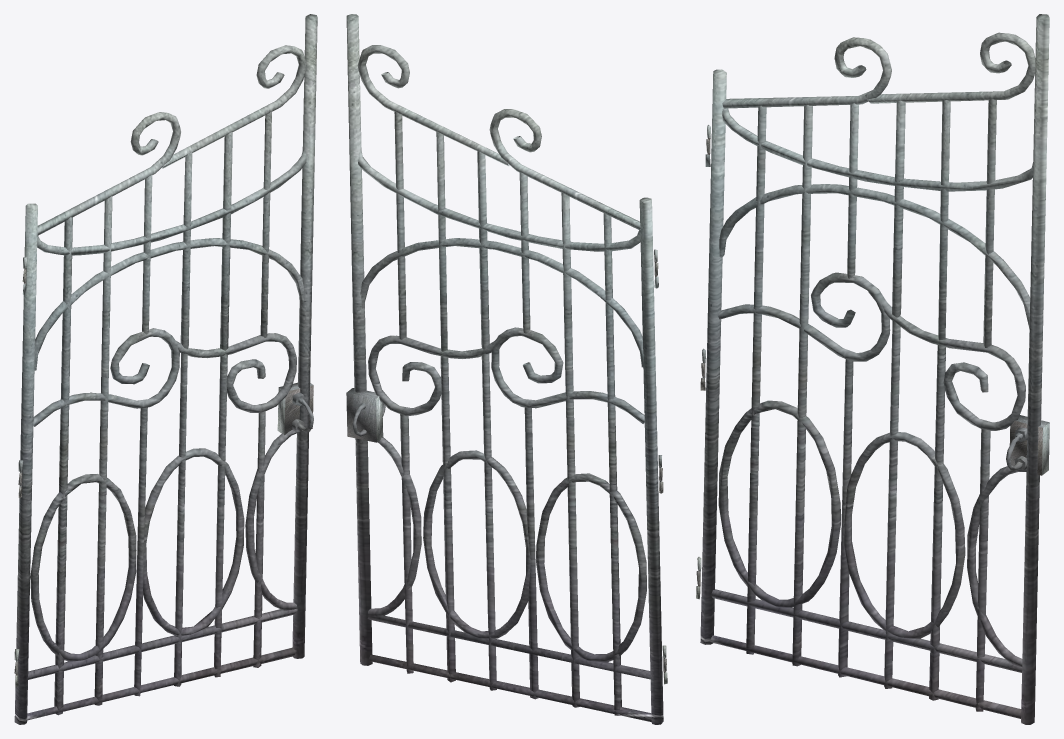
Rendered from porta1.fbx.
The picture shows the model from 3 angles, left to right: view 1: azimuth 30°, elevation 25°; view 2: azimuth 150°, elevation 25°; view 3: azimuth 330°, elevation 25°; orthographic projection. The views are drawn at different scales.
Parts seen in each view (by area): view 1: porta portao 1; view 2: porta portao 1; view 3: porta portao 1.
Part boxes in pixels (left/top/right/bottom): porta portao 1: left=14, top=14, right=317, bottom=724; porta portao 1: left=346, top=14, right=667, bottom=724; porta portao 1: left=696, top=14, right=1049, bottom=724.
Size of the model in its own units: 176 by 346 by 32.5.
1 material, 1 textured.
